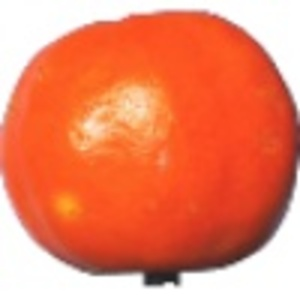tangerina: (1, 8, 300, 287)
